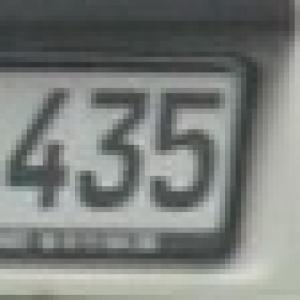Plate: (0, 41, 270, 282)
